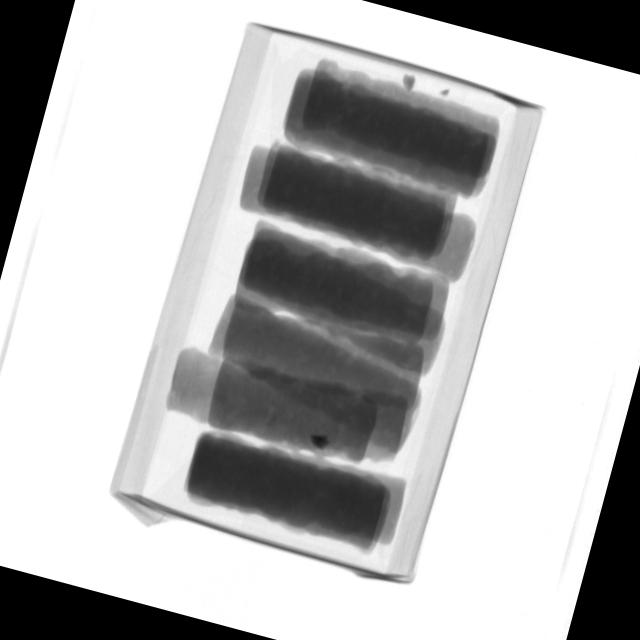ym: (310, 431, 332, 450), (400, 71, 418, 94), (441, 89, 452, 99)
